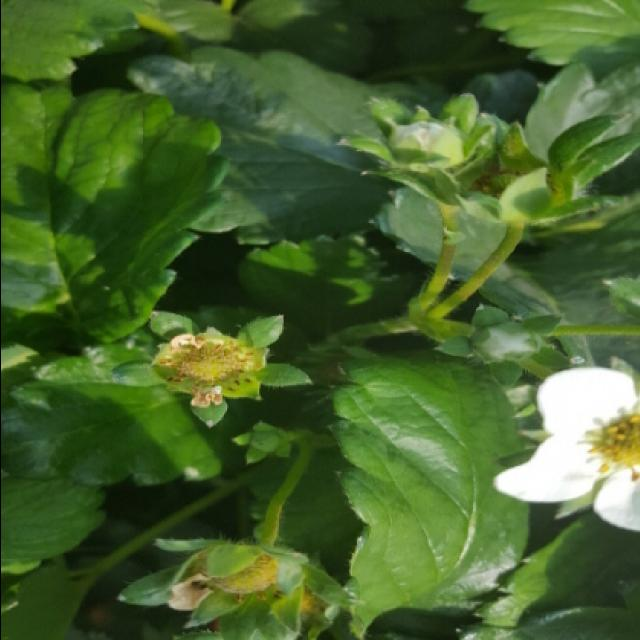Blossom Blight: (158, 336, 256, 395)
